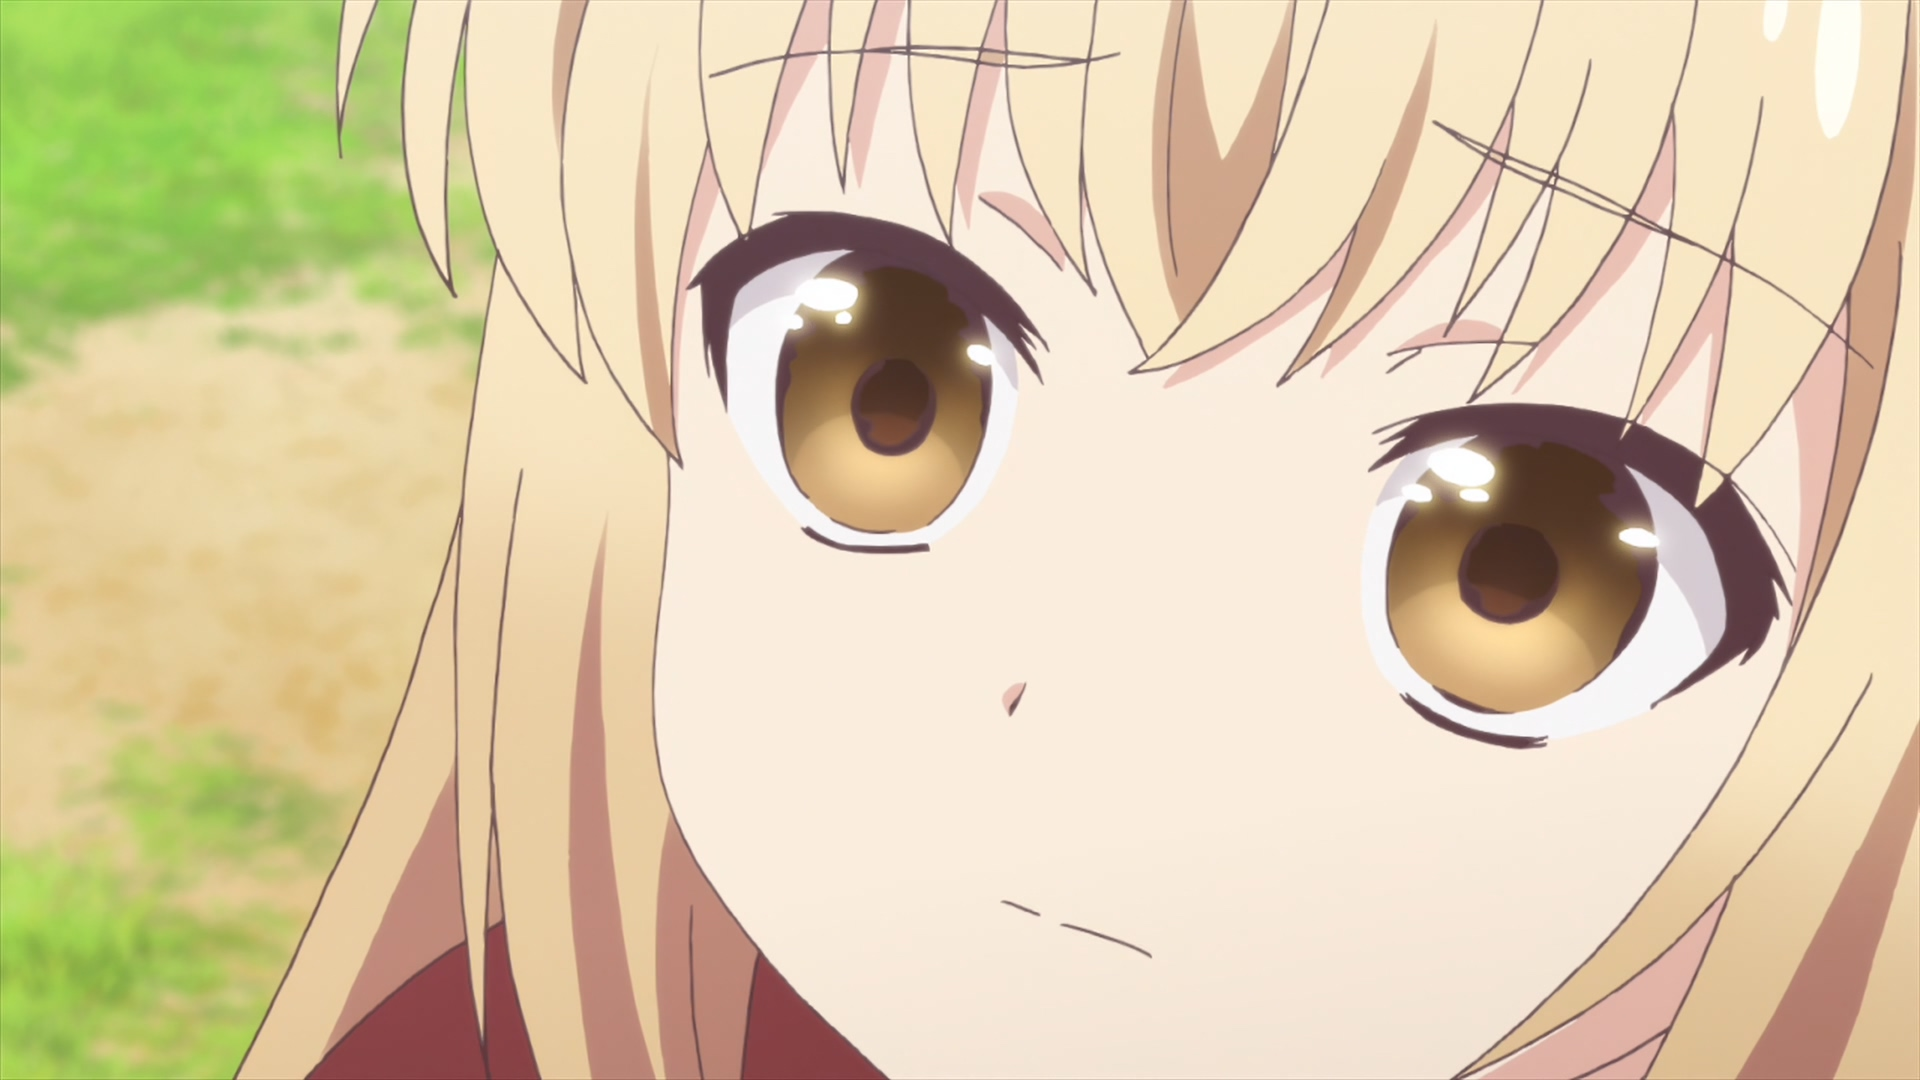柚: (235, 1, 1920, 1080)
